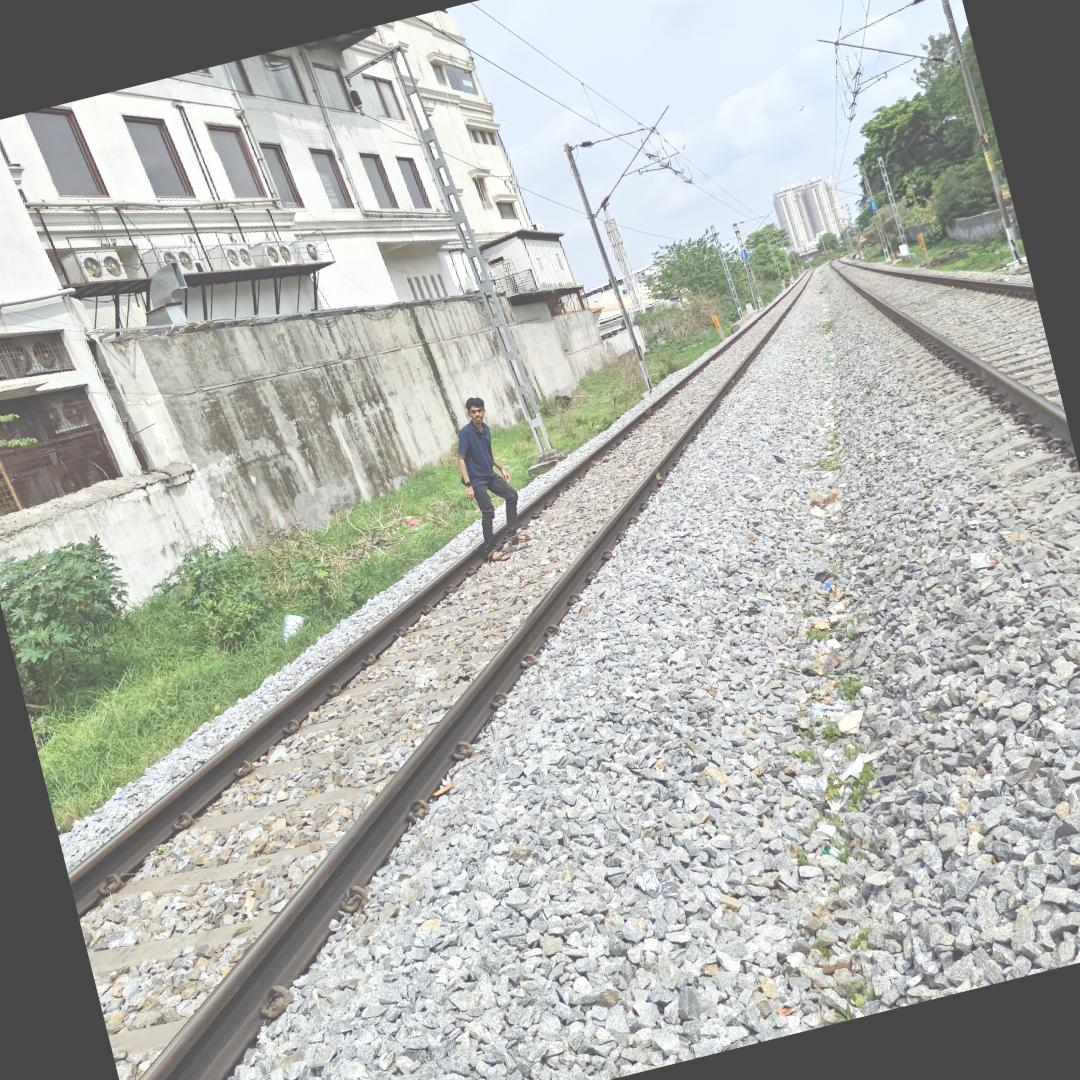standing: (428, 377, 538, 558)
track: (57, 295, 820, 1080)
